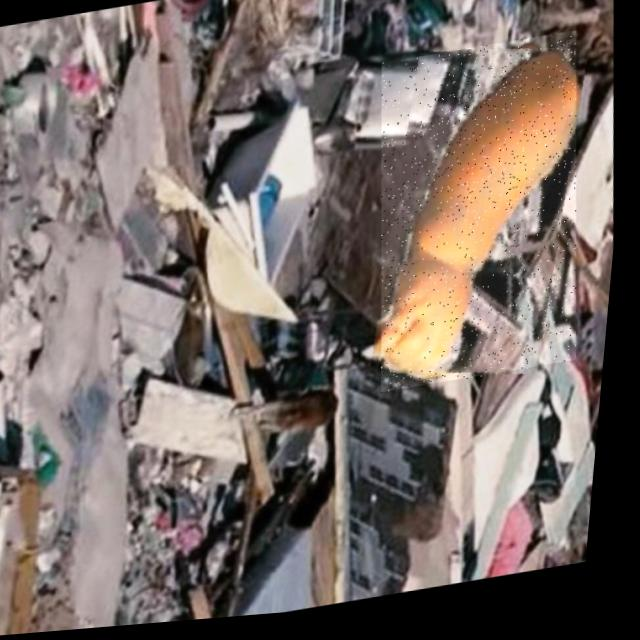Person in Rubble: (359, 38, 606, 403)
